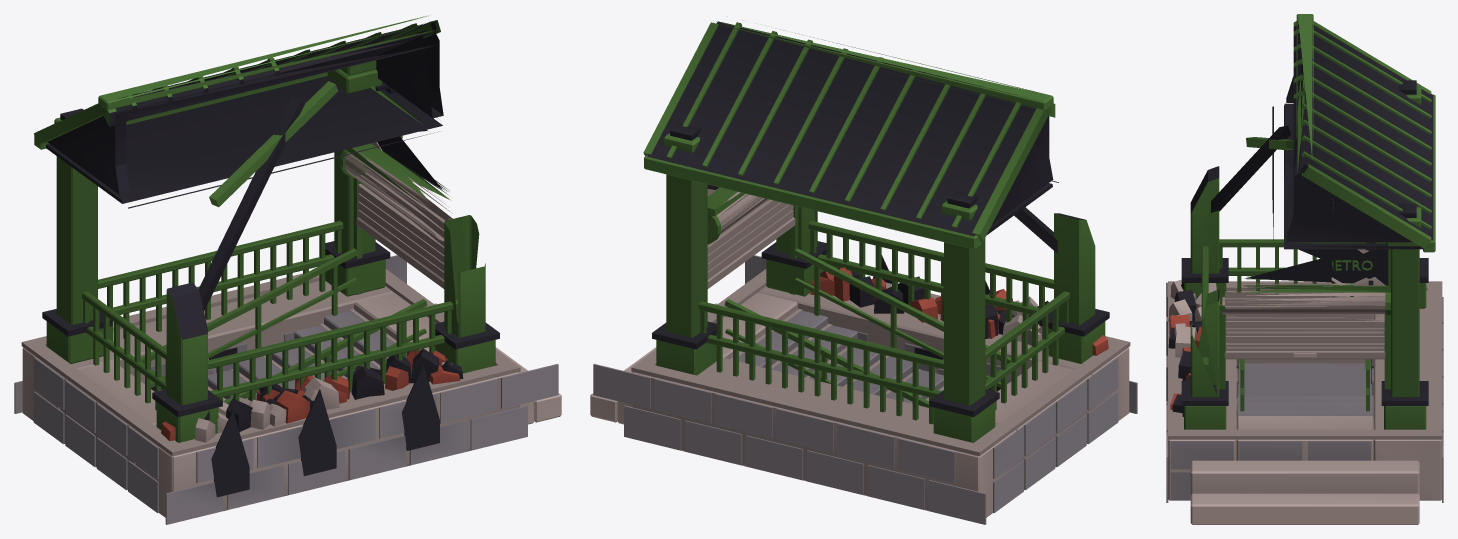
The picture shows the model from 3 angles, left to right: view 1: azimuth 30°, elevation 25°; view 2: azimuth 150°, elevation 25°; view 3: azimuth 270°, elevation 25°; orthographic projection. The views are drawn at different scales.
Parts seen in each view (by area): view 1: body_pal_foliageDark.123, body_pal_uiDark.005, body_pal_pantsLight, body_pal_sidewalk, shutter_pal_sidewalk, body_pal_brick; view 2: body_pal_foliageDark.123, body_pal_uiDark.005, body_pal_pantsLight, body_pal_sidewalk, shutter_pal_sidewalk, body_pal_brick; view 3: body_pal_sidewalk, body_pal_uiDark.005, body_pal_foliageDark.123, body_pal_pantsLight, shutter_pal_sidewalk, body_pal_brick.
Part boxes in pixels (<box>): body_pal_foliageDark.123: <box>34,15,495,442</box>; body_pal_uiDark.005: <box>42,21,499,497</box>; body_pal_pantsLight: <box>14,255,558,524</box>; body_pal_sidewalk: <box>21,142,561,517</box>; shutter_pal_sidewalk: <box>356,161,448,288</box>; body_pal_brick: <box>161,349,460,441</box>; body_pal_foliageDark.123: <box>643,20,1105,442</box>; body_pal_uiDark.005: <box>647,21,1109,417</box>; body_pal_pantsLight: <box>593,255,1137,524</box>; body_pal_sidewalk: <box>590,189,1130,517</box>; shutter_pal_sidewalk: <box>707,194,795,288</box>; body_pal_brick: <box>810,267,1108,355</box>; body_pal_sidewalk: <box>1168,199,1442,524</box>; body_pal_uiDark.005: <box>1166,24,1433,416</box>; body_pal_foliageDark.123: <box>1184,14,1435,429</box>; body_pal_pantsLight: <box>1166,297,1443,502</box>; shutter_pal_sidewalk: <box>1224,292,1385,359</box>; body_pal_brick: <box>1169,315,1201,409</box>.
Size of the model in its own units: 7.52 by 6.48 by 4.86.
